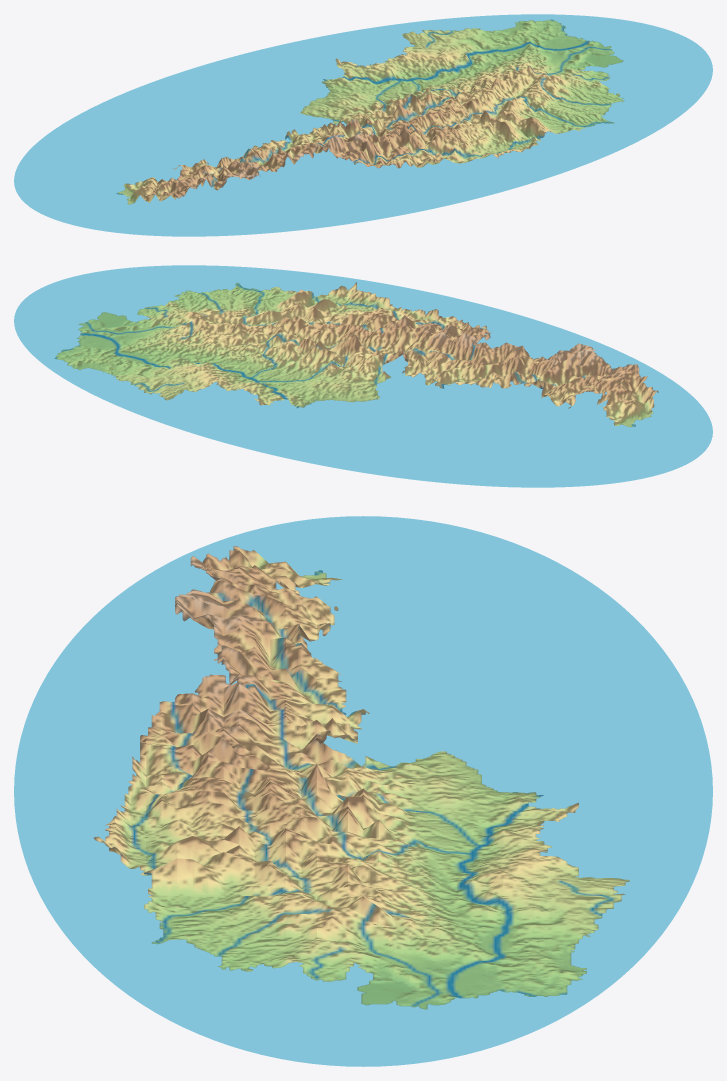
File: AUT-terrain.glb
The picture shows the model from 3 angles, top to bottom: view 1: azimuth 30°, elevation 25°; view 2: azimuth 150°, elevation 25°; view 3: azimuth 270°, elevation 25°; orthographic projection. The views are drawn at different scales.
Parts seen in each view (by area): view 1: Relevo com hidrografia; view 2: Relevo com hidrografia; view 3: Relevo com hidrografia.
Part boxes in pixels (bbox=[...]): Relevo com hidrografia: bbox=[14, 14, 712, 236]; Relevo com hidrografia: bbox=[14, 265, 712, 487]; Relevo com hidrografia: bbox=[14, 516, 712, 1066].
Size of the model in its own units: 2.03 by 0.0939 by 1.09.
Materials: 2 (1 with a texture image).
